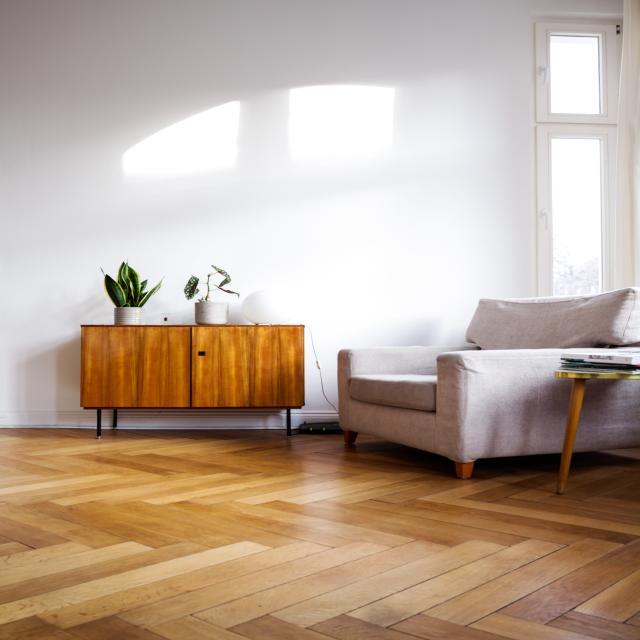floor: (0, 428, 640, 640)
wall: (117, 409, 287, 429), (101, 409, 114, 429)
